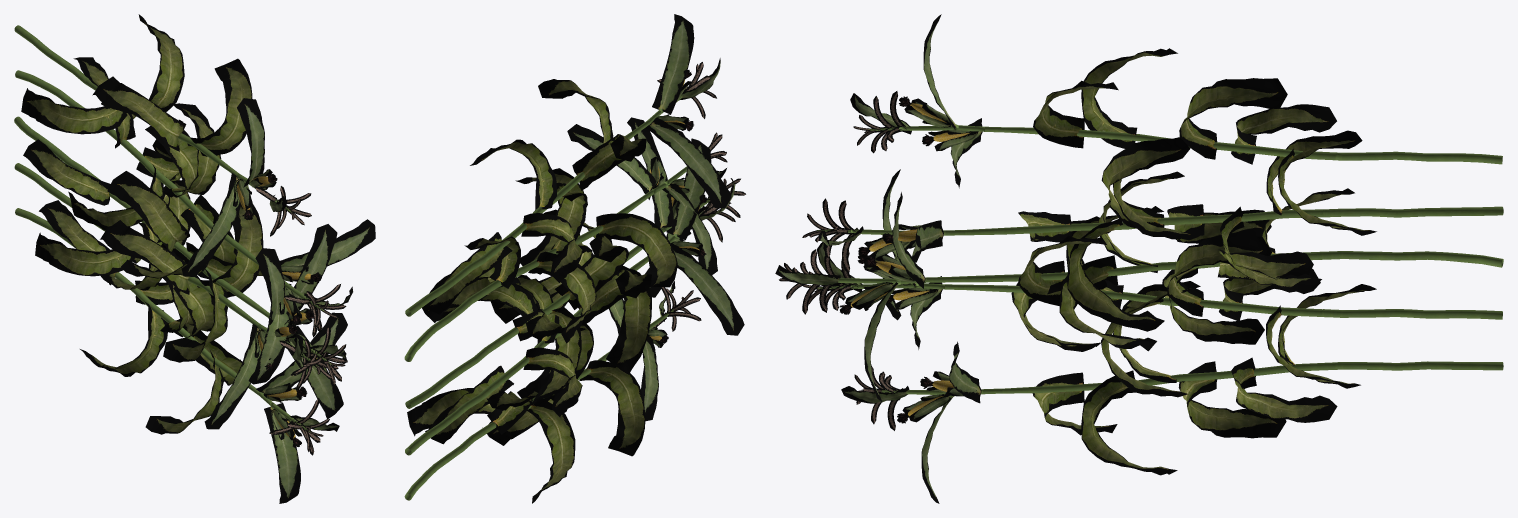
3 renders of one model, left to right at view 1: azimuth 30°, elevation 25°; view 2: azimuth 150°, elevation 25°; view 3: azimuth 270°, elevation 25°, orthographic. The views are drawn at different scales.
Parts seen in each view (by area): view 1: AG20_9; view 2: AG20_9; view 3: AG20_9.
Boxes of the visible parts, left/top/right/bottom form: AG20_9: left=14, top=14, right=375, bottom=503; AG20_9: left=404, top=14, right=745, bottom=503; AG20_9: left=775, top=14, right=1503, bottom=503.
Size of the model in its own units: 0.9672 by 2.14 by 3.03.
6 materials, 6 textured.
